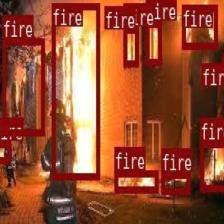fire: (51, 3, 99, 178), (2, 38, 44, 135), (181, 4, 217, 48), (199, 140, 224, 190), (114, 170, 158, 192), (145, 20, 161, 65), (161, 171, 190, 193), (123, 26, 138, 66), (104, 5, 132, 24), (0, 139, 10, 162), (201, 62, 209, 72), (221, 54, 224, 80)
